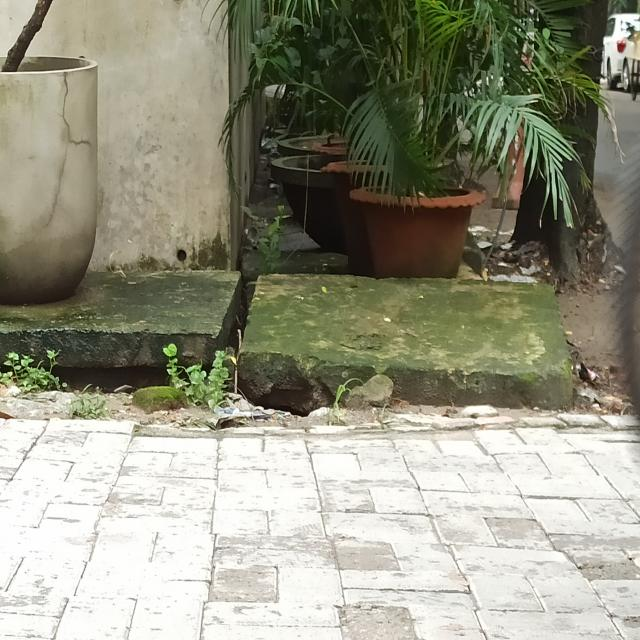artificial_container: (0, 55, 99, 305), (271, 154, 454, 246), (349, 183, 488, 277), (323, 164, 436, 272), (276, 135, 431, 168)
